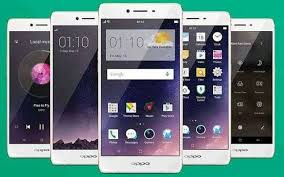oppo: (95, 1, 180, 176)
